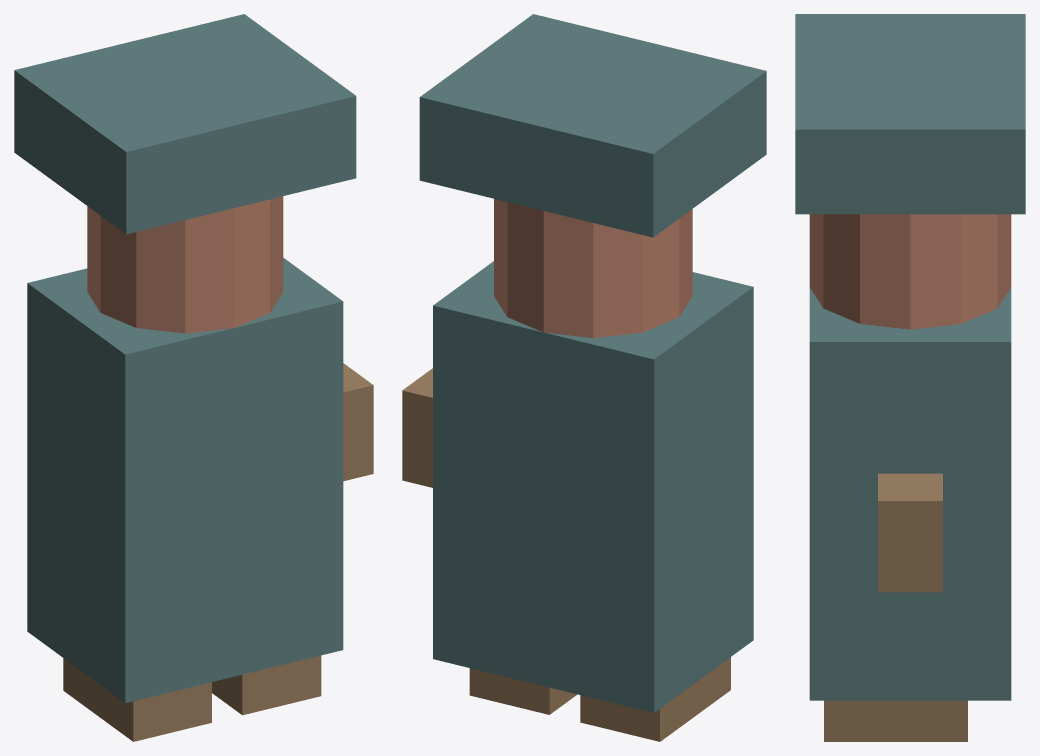
The model's file is traveler_blockout.glb.
3 renders of one model, left to right at view 1: azimuth 30°, elevation 25°; view 2: azimuth 150°, elevation 25°; view 3: azimuth 270°, elevation 25°, orthographic. The views are drawn at different scales.
Visible parts, largest first — view 1: Traveler_Body, Traveler_Cap, Traveler_Head, Traveler_Boot, Traveler_Boot.001, Traveler_Lantern; view 2: Traveler_Body, Traveler_Cap, Traveler_Head, Traveler_Boot, Traveler_Lantern, Traveler_Boot.001; view 3: Traveler_Body, Traveler_Cap, Traveler_Head, Traveler_Lantern, Traveler_Boot.001.
Part boxes in pixels (box(x1,y1,x2,y2)): Traveler_Body: box(27, 258, 343, 703); Traveler_Cap: box(14, 14, 356, 234); Traveler_Head: box(87, 196, 283, 333); Traveler_Boot: box(63, 658, 211, 741); Traveler_Boot.001: box(212, 655, 321, 715); Traveler_Lantern: box(343, 363, 373, 481); Traveler_Body: box(433, 261, 753, 712); Traveler_Cap: box(419, 14, 766, 237); Traveler_Head: box(494, 199, 692, 337); Traveler_Boot: box(580, 657, 730, 741); Traveler_Lantern: box(402, 368, 432, 487); Traveler_Boot.001: box(469, 668, 577, 714); Traveler_Body: box(809, 287, 1011, 700); Traveler_Cap: box(795, 14, 1025, 214); Traveler_Head: box(809, 214, 1011, 329); Traveler_Lantern: box(878, 473, 942, 592); Traveler_Boot.001: box(824, 700, 967, 741).
Size of the model in its own units: 0.95 by 1.91 by 0.64.
